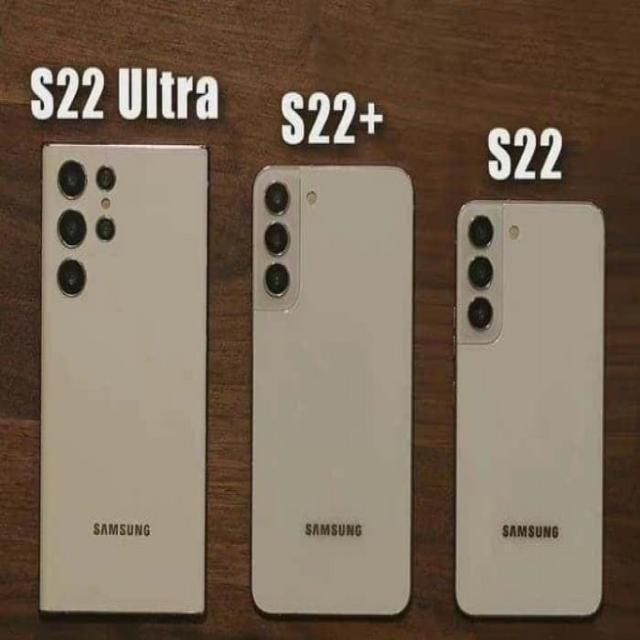phone: (38, 140, 208, 620), (251, 162, 414, 620), (452, 197, 606, 622)
